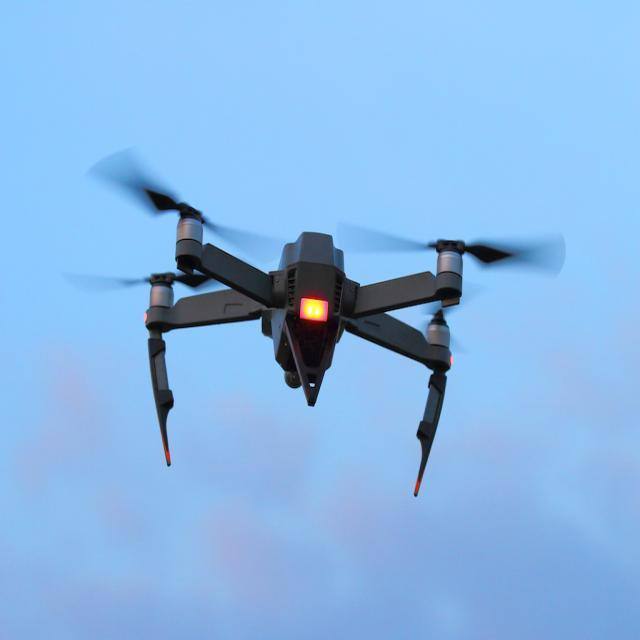drone: (90, 137, 523, 516)
